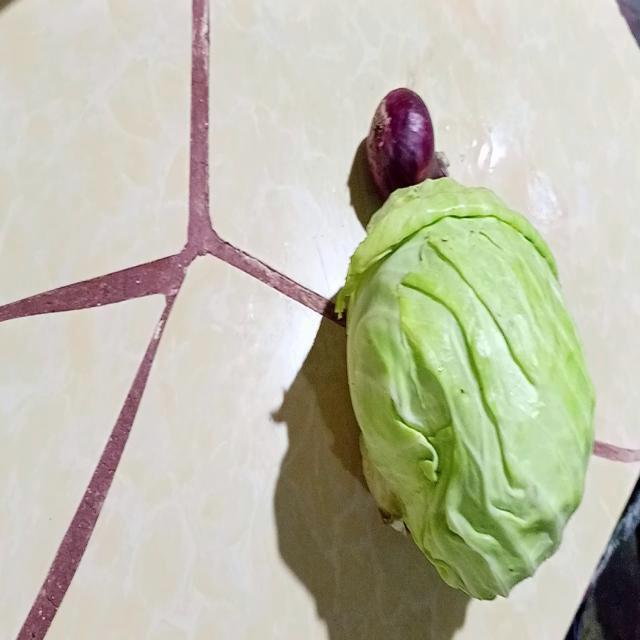cabbage: (339, 177, 596, 605)
onion: (366, 89, 448, 197)
